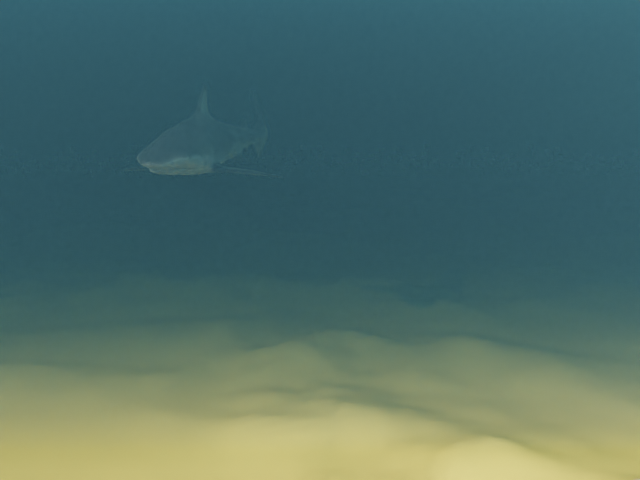Carribean Shark.001: (122, 84, 282, 177)
